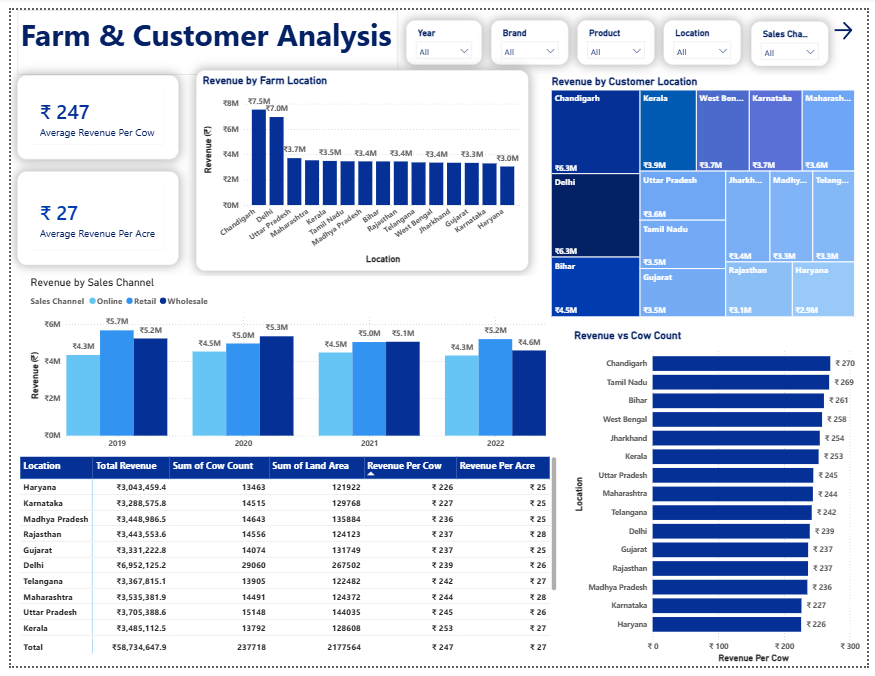

The page's visual inventory and layout, read from the dashboard file:
{"tool":"powerbi","page":{"name":"Farm & Customer Analysis","canvas":[1370,1050],"ordinal":3},"visuals":[{"type":"textbox","box":[10,0,610,103.3],"z":0},{"type":"group","id":"g1","title":"Group 1","box":[631.7,15,675,73.3],"z":1000},{"type":"slicer","fields":{"Values":["Calendar.Year"]},"box":[631.7,15.6,121.6,71.7],"z":1000,"group":"g1"},{"type":"slicer","fields":{"Values":["Fact_DairySales.Brand"]},"box":[768.3,15,123.6,71.7],"z":2000,"group":"g1"},{"type":"cardVisual","fields":{"Data":["Measures (2).Revenue Per Cow"]},"box":[10,103.3,258.3,135],"z":2000},{"type":"slicer","fields":{"Values":["Fact_DairySales.Product Name"]},"box":[906.2,15,123.6,71.7],"z":3000,"group":"g1"},{"type":"cardVisual","fields":{"Data":["Measures (2).Revenue Per Acre"]},"box":[10,258.3,258.3,150],"z":3000},{"type":"slicer","fields":{"Values":["Fact_DairySales.Location"]},"box":[1043.1,15,123.6,71.7],"z":4000,"group":"g1"},{"type":"clusteredColumnChart","title":"Revenue by Farm Location","fields":{"Category":["Fact_DairySales.Location"],"Y":["Measures (2).Total Revenue"]},"box":[296.7,96.7,531.7,321.7],"z":4000},{"type":"slicer","fields":{"Values":["Fact_DairySales.Sales Channel"]},"box":[1183.1,16.7,123.6,71.7],"z":5000,"group":"g1"},{"type":"treemap","title":"Revenue by Customer Location","fields":{"Group":["Fact_DairySales.Customer Location"],"Values":["Measures (2).Total Revenue"]},"box":[860,103.3,495,391.7],"z":5000},{"type":"clusteredColumnChart","title":"Revenue by Sales Channel","fields":{"Category":["Calendar.Year"],"Series":["Fact_DairySales.Sales Channel"],"Y":["Measures (2).Total Revenue"]},"box":[25,425,835,285],"z":6000},{"type":"clusteredBarChart","title":"Revenue  vs  Cow Count","fields":{"Category":["Fact_DairySales.Location"],"Y":["Measures (2).Revenue Per Cow"]},"box":[895,510,475,540],"z":7000},{"type":"pivotTable","fields":{"Rows":["Fact_DairySales.Location"],"Values":["Measures (2).Total Revenue","Sum(Fact_DairySales.Cow Count)","Sum(Fact_DairySales.Land Area)","Measures (2).Revenue Per Cow","Measures (2).Revenue Per Acre"]},"box":[10,710,868.3,325],"z":8000},{"type":"actionButton","box":[1311.7,13.3,48.3,38.3],"z":9000}]}

Visuals, with their boxes in screenshot pixels (x1, y1, x2, y2), scaled from the page's 1370x1050 canvas onto the 875x676 screenshot:
textbox: [6,0,396,67]
"Group 1" group: [403,10,835,57]
slicer - Calendar.Year: [403,10,481,56]
slicer - Fact_DairySales.Brand: [491,10,570,56]
cardVisual - Measures (2).Revenue Per Cow: [6,67,171,153]
slicer - Fact_DairySales.Product Name: [579,10,658,56]
cardVisual - Measures (2).Revenue Per Acre: [6,166,171,263]
slicer - Fact_DairySales.Location: [666,10,745,56]
"Revenue by Farm Location" clusteredColumnChart: [189,62,529,269]
slicer - Fact_DairySales.Sales Channel: [756,11,835,57]
"Revenue by Customer Location" treemap: [549,67,865,319]
"Revenue by Sales Channel" clusteredColumnChart: [16,274,549,457]
"Revenue  vs  Cow Count" clusteredBarChart: [572,328,874,675]
pivotTable - Fact_DairySales.Location x Measures (2).Total Revenue: [6,457,561,666]
actionButton: [838,9,869,33]
